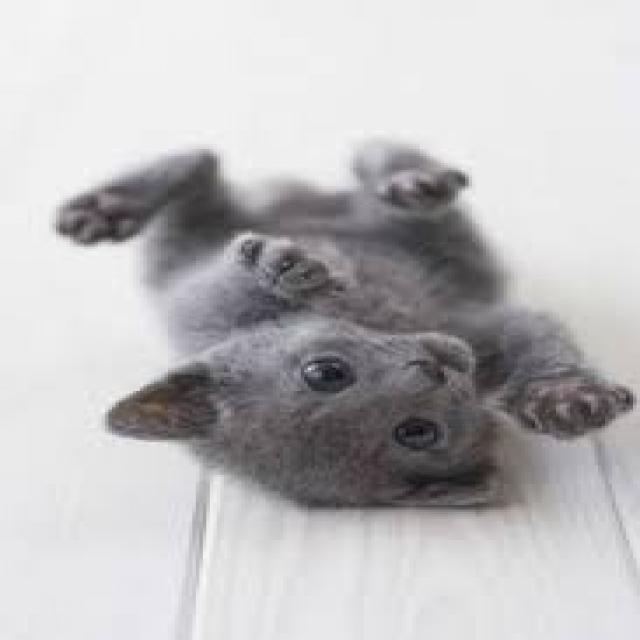Cat: (47, 125, 640, 524)
